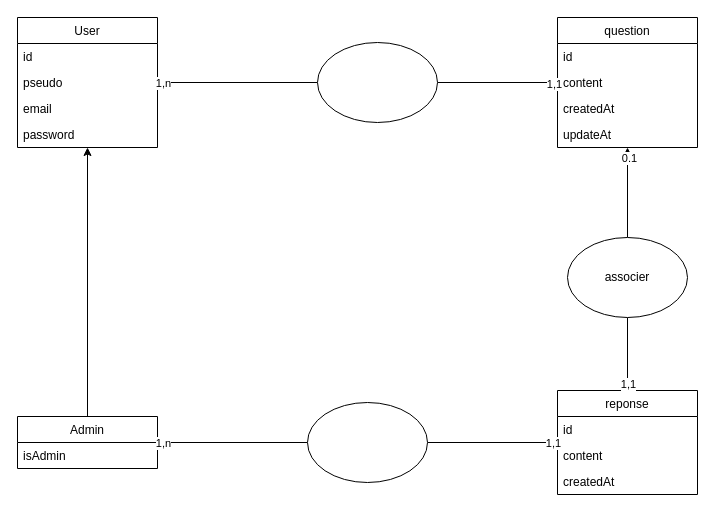
The diagram is 715 pixels wide and 515 high, and some of its shapes have lost their labels. Each missing label, with the centre of its shape:
"Créer" goes at (367,442).
"Poser" goes at (377,82).
